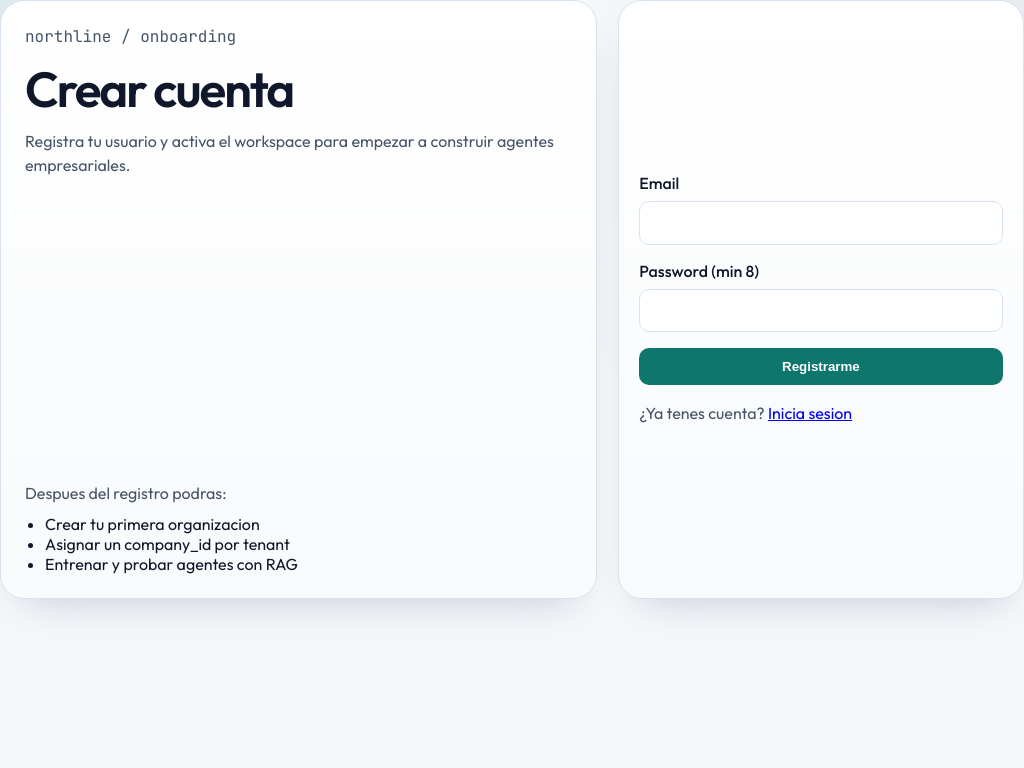
Test: RegisterPage › shows conflict error on duplicate user
This screenshot has width=1024, height=768.
Type "owner@demo.com" into the field labelled "Email" at [821, 223], box [639,201,1003,245]
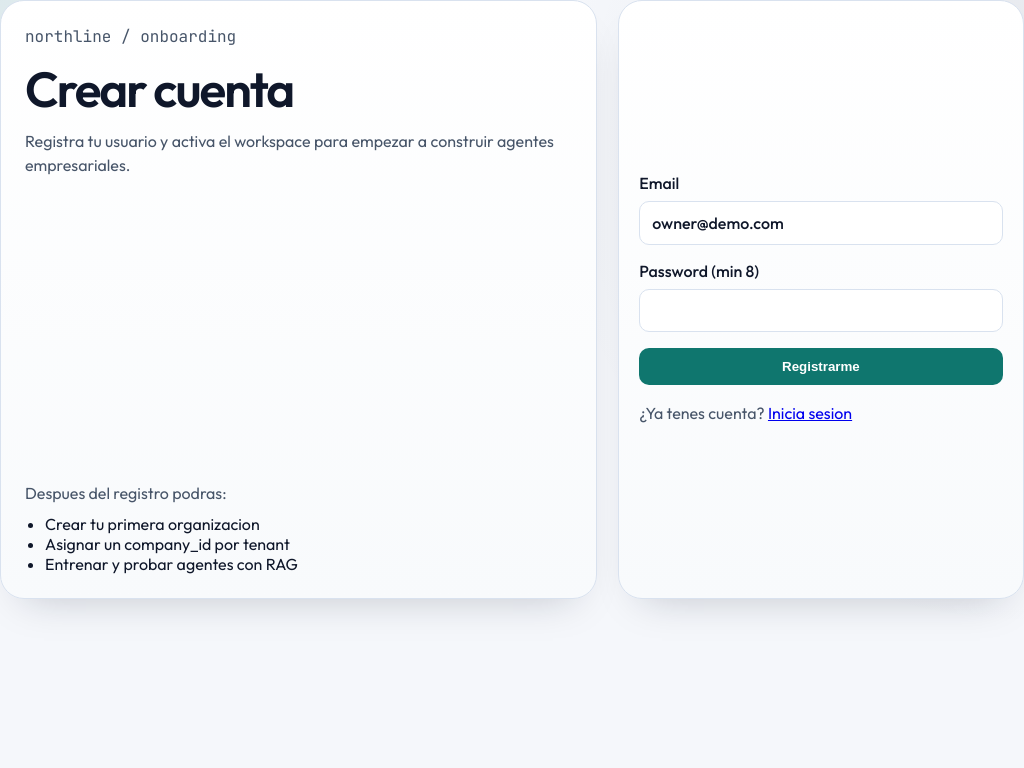
Type "password123" into the password field labelled "Password (min 8)" at [821, 311], box [639,289,1003,332]
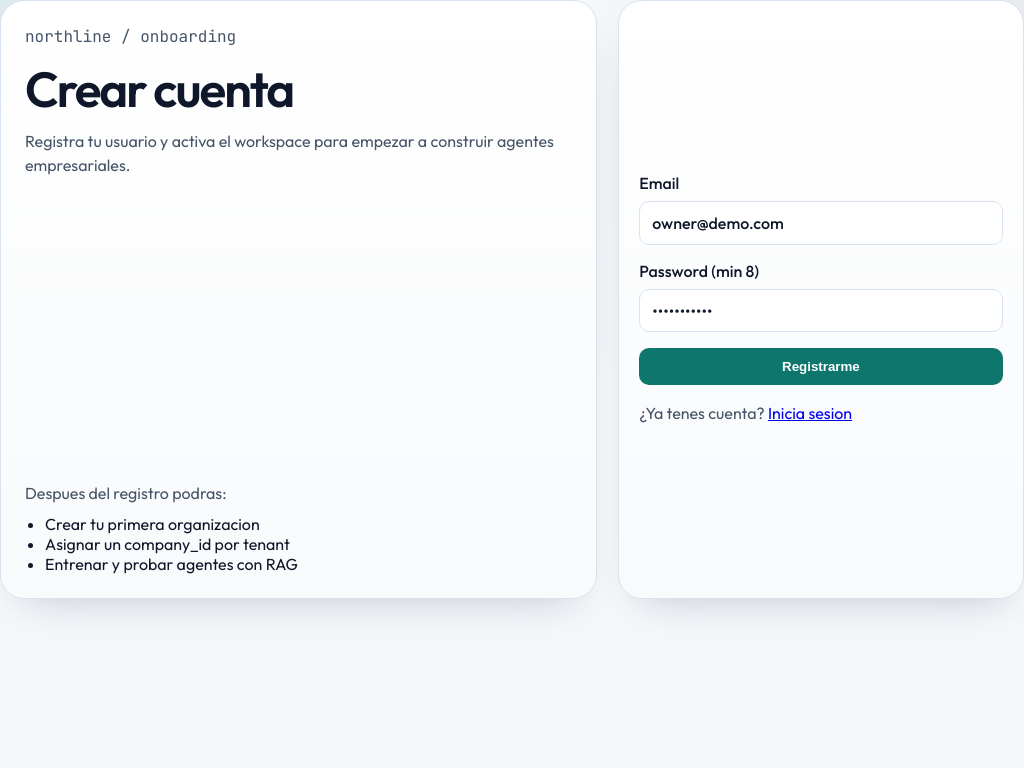
Submit the form from the button "Registrarme", box [639,348,1003,385]
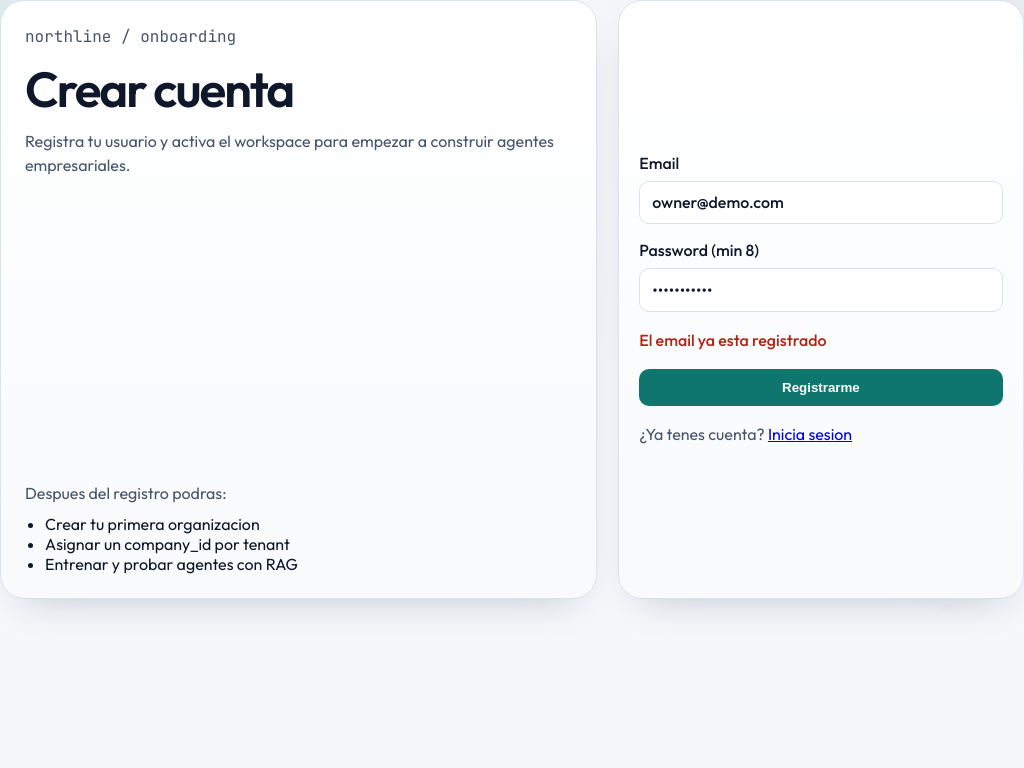
Expected: the text "El email ya esta registrado" is shown, [639,330,827,350]
